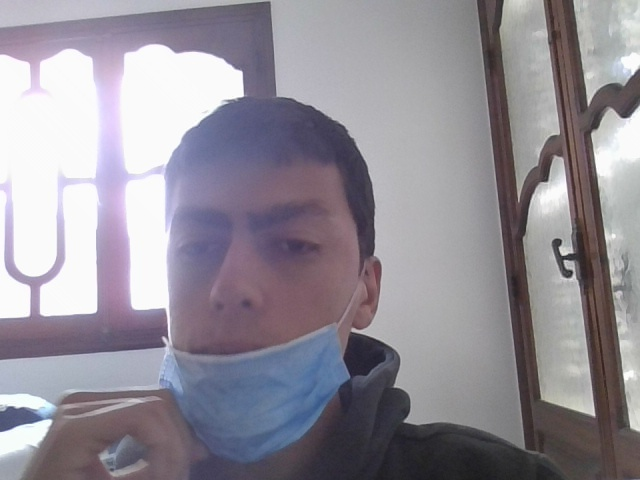mask_weared_incorrect: (160, 118, 381, 449)
